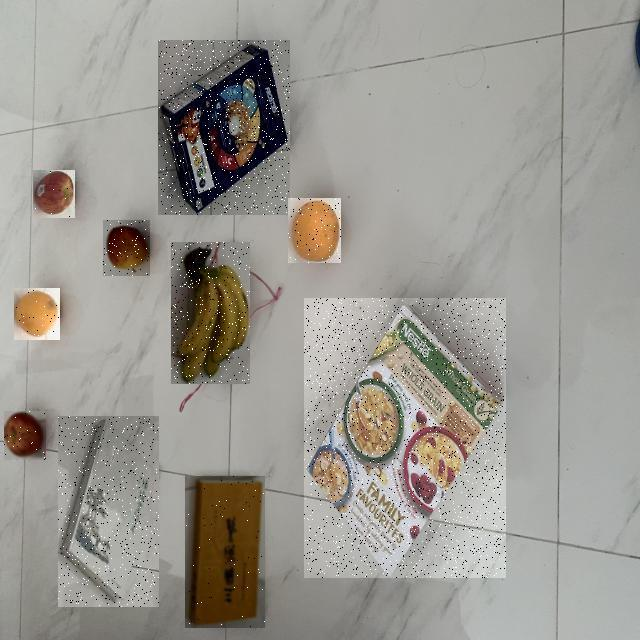Apple: (103, 220, 150, 276), (4, 412, 46, 462), (33, 170, 75, 218)
Banana: (171, 242, 250, 384)
Book: (58, 416, 159, 607), (185, 476, 265, 628)
Cereal: (304, 298, 506, 578), (158, 40, 290, 215)
Orange: (288, 198, 341, 263), (14, 288, 60, 340)
